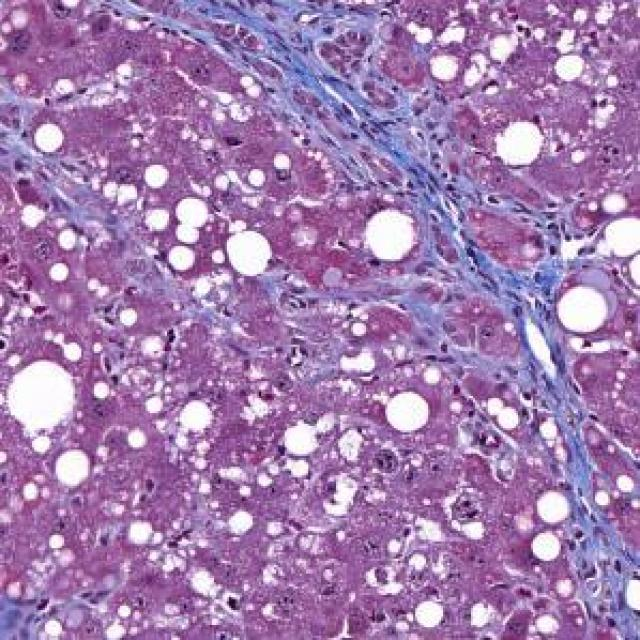fibrosis: (234, 0, 416, 161), (558, 424, 640, 640), (415, 259, 559, 377)
